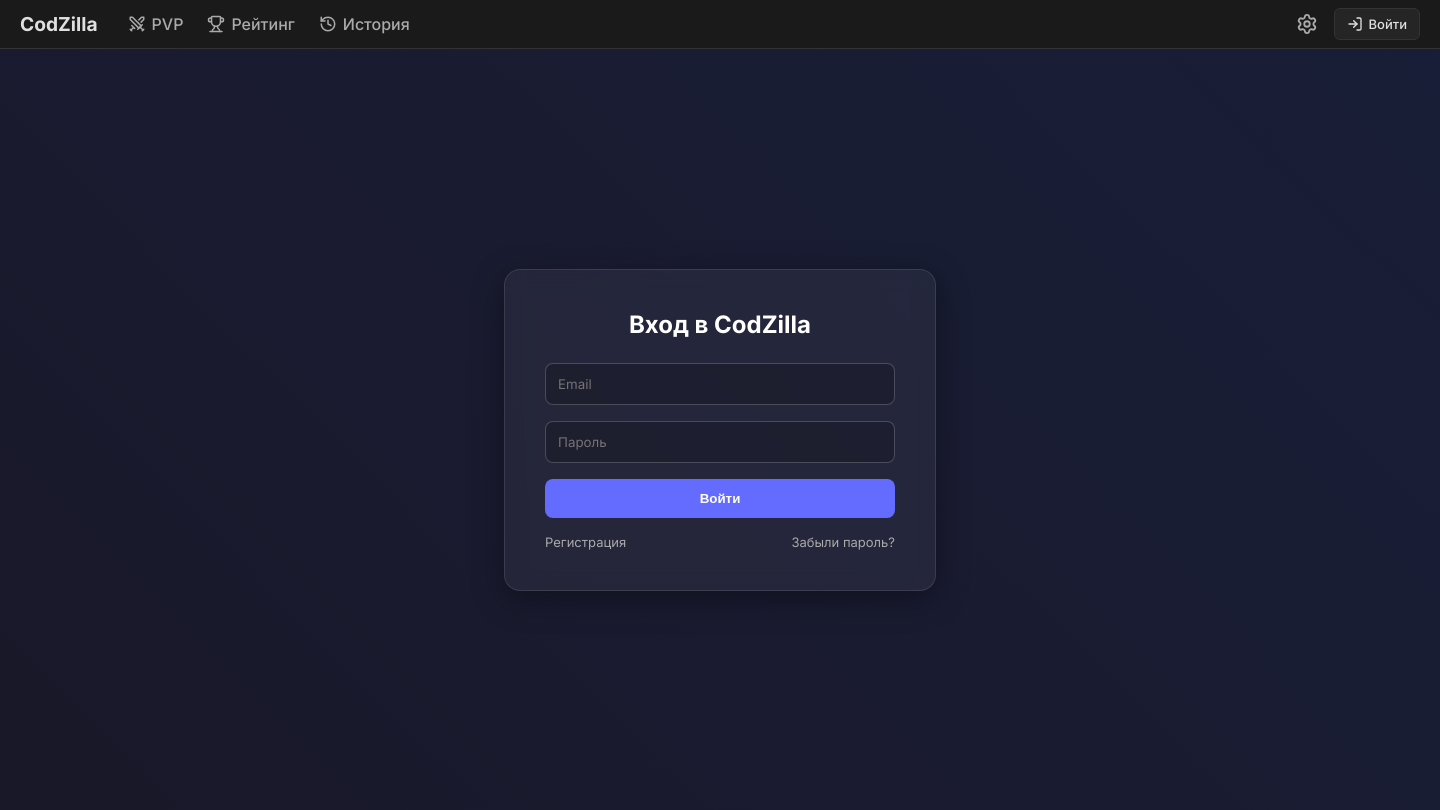
Test: LoginPage › нажатие на логотип в Header сбрасывает вид на форму входа
Click the text "Регистрация" at (586, 542), box [545,534,626,550]
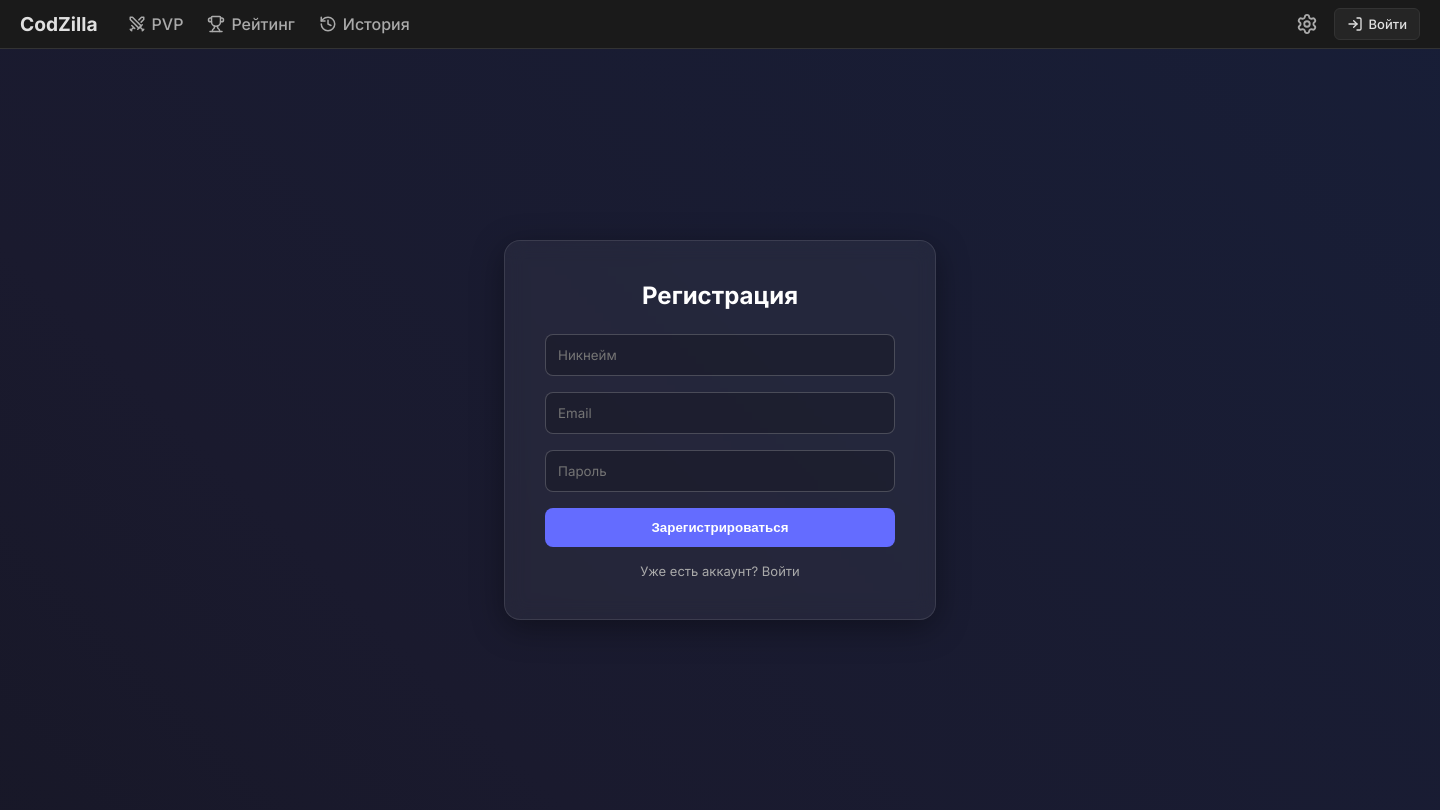
Now the heading "Регистрация" is shown, box [642,280,798,310]
Click the heading "CodZilla" at (59, 24), box [20,12,98,36]
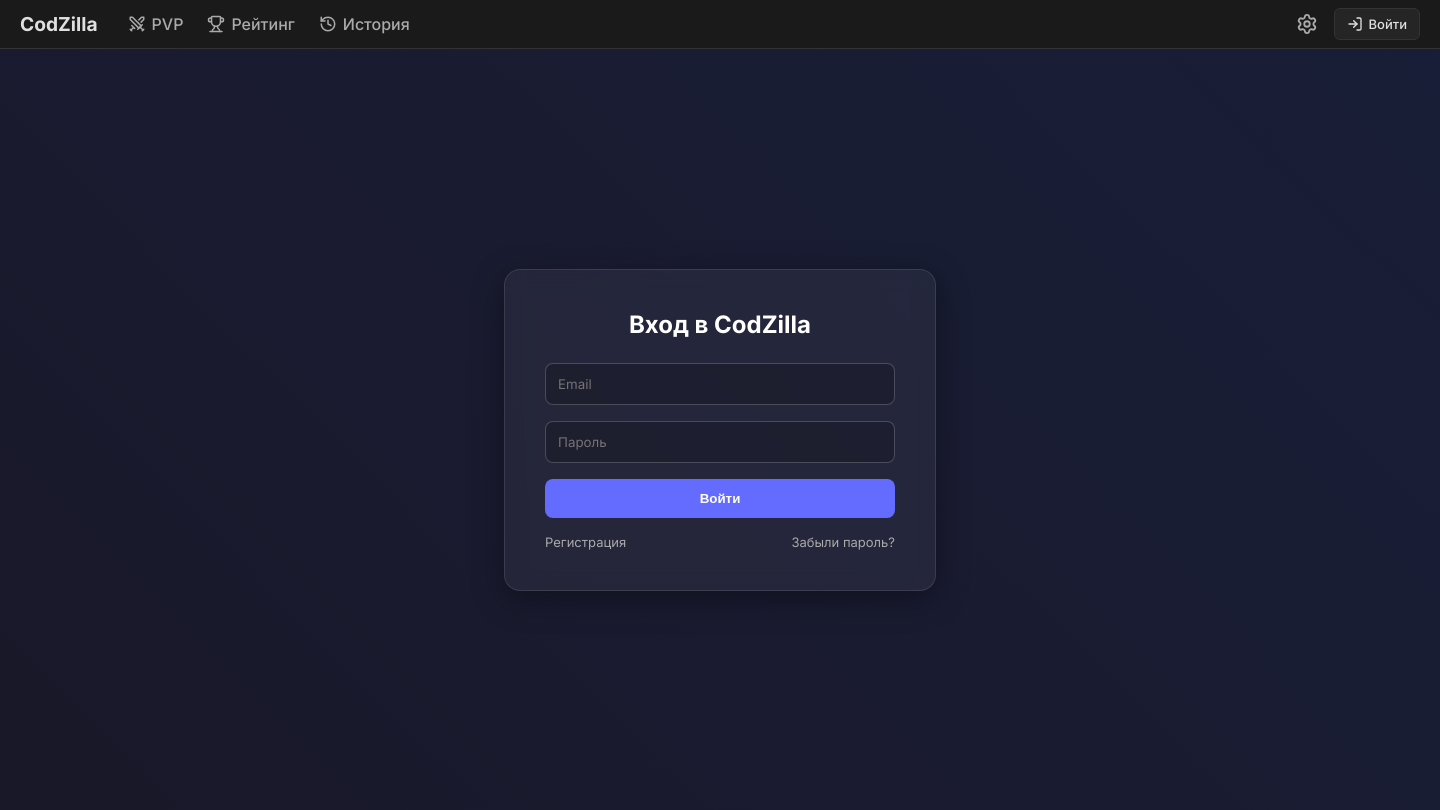
Now the heading "Вход в CodZilla" is shown, box [629,310,811,338]
